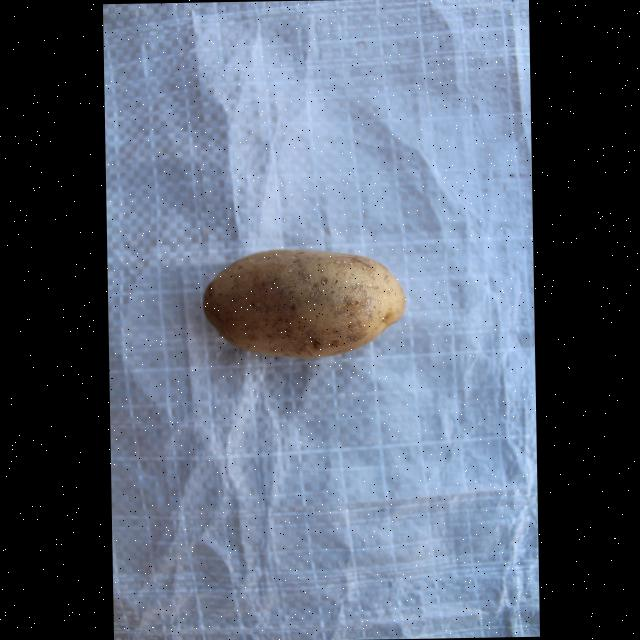Diseased-fungal potato: (198, 242, 414, 368)
